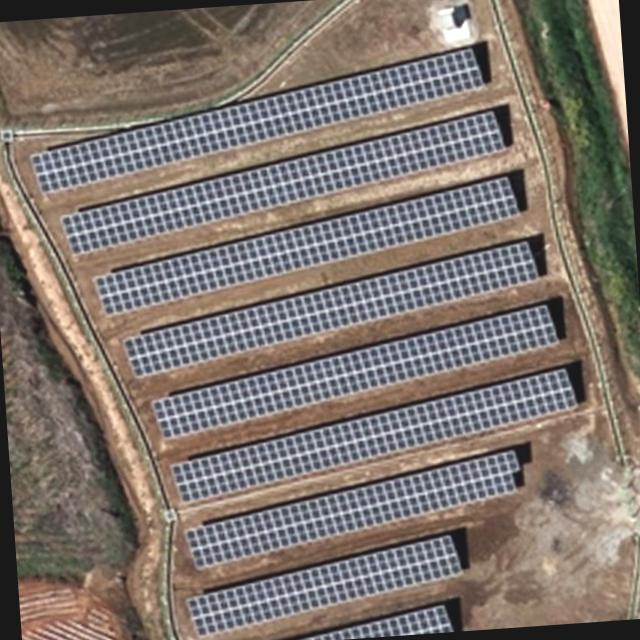solar: (22, 40, 495, 198), (52, 104, 512, 261), (85, 172, 528, 320), (112, 235, 550, 380), (145, 297, 565, 441), (164, 364, 586, 507), (177, 447, 530, 573), (181, 532, 470, 636), (282, 600, 459, 640)
